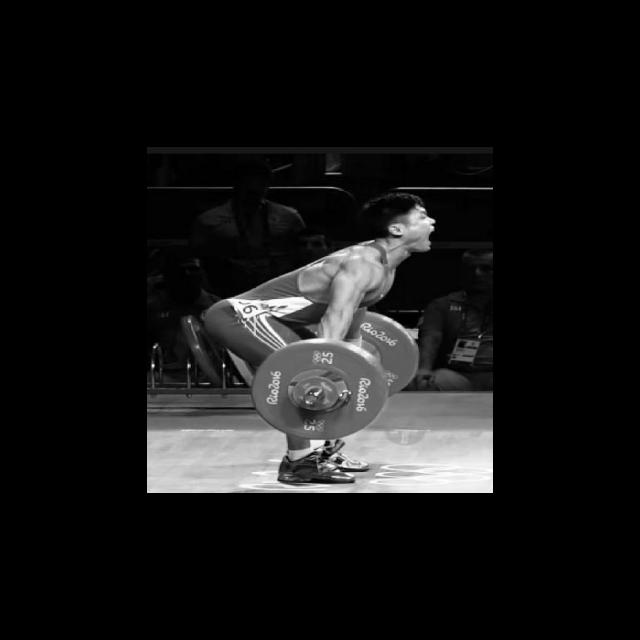barbell: (250, 334, 390, 441)
